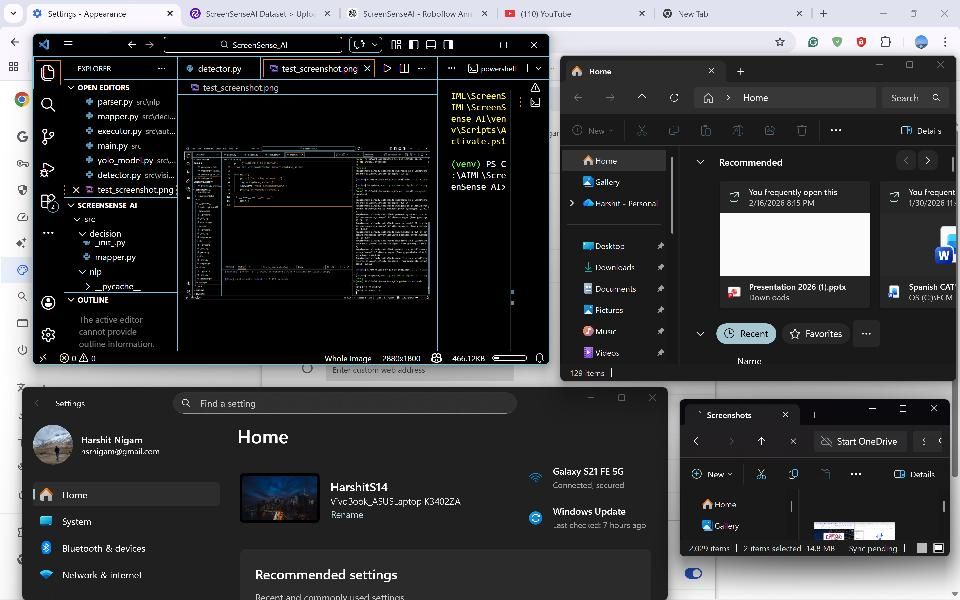close_button: (933, 2, 956, 25), (524, 35, 545, 55), (644, 389, 661, 406), (932, 58, 950, 74), (925, 401, 943, 417)
maximize_button: (905, 2, 925, 24), (493, 35, 514, 54), (612, 389, 634, 407), (901, 58, 922, 74), (894, 401, 914, 417)
minimize_button: (873, 2, 900, 24), (464, 35, 484, 54), (864, 401, 885, 417), (870, 58, 890, 74), (581, 390, 601, 406)
